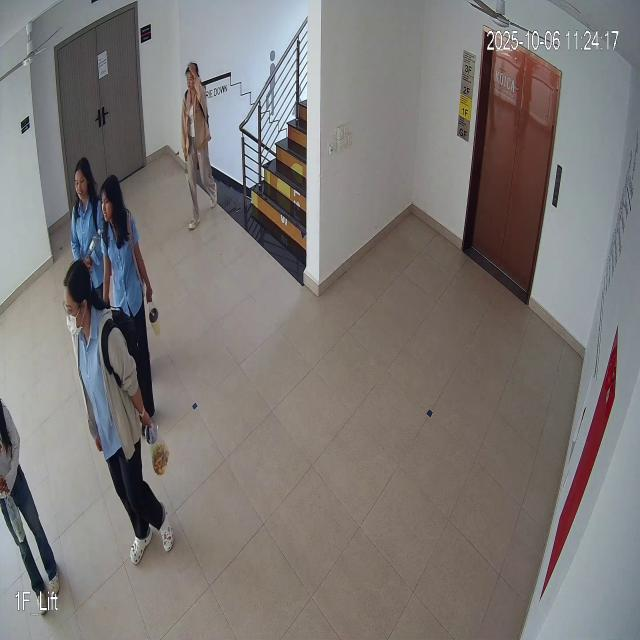face: (70, 155, 92, 210), (98, 178, 118, 226)
